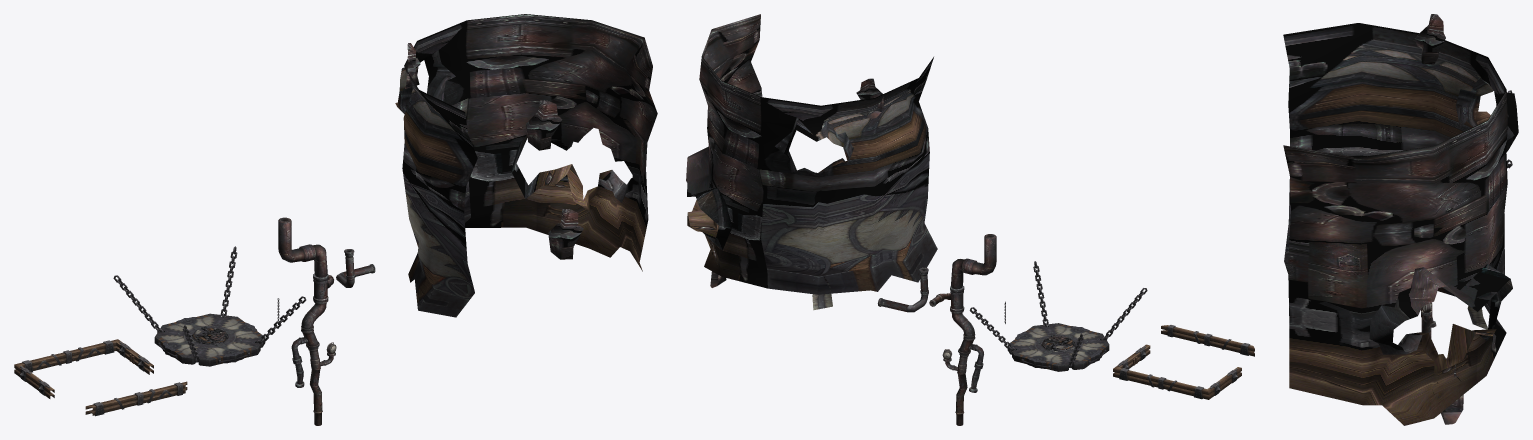
Rendered from f_1240_bulding.FBX.
The picture shows the model from 3 angles, left to right: view 1: azimuth 30°, elevation 25°; view 2: azimuth 150°, elevation 25°; view 3: azimuth 270°, elevation 25°; orthographic projection. The views are drawn at different scales.
Visible parts, largest first — view 1: Cylinder001, f_1136_floor_a01, f_1136_floor_a06, f_1136_floor_a04, f_1136_floor_a05, f_1136_floor_a008, f_1136_floor_a03, f_1136_floor_a007; view 2: Cylinder001, f_1136_floor_a01, f_1136_floor_a06, f_1136_floor_a04, f_1136_floor_a05, f_1136_floor_a008, f_1136_floor_a03, f_1136_floor_a007; view 3: Cylinder001, f_1136_floor_a03.
Part boxes in pixels (<box>): Cylinder001: <box>395,14,657,317</box>; f_1136_floor_a01: <box>113,246,306,366</box>; f_1136_floor_a06: <box>14,339,153,398</box>; f_1136_floor_a04: <box>291,273,333,387</box>; f_1136_floor_a05: <box>278,217,327,277</box>; f_1136_floor_a008: <box>85,381,187,416</box>; f_1136_floor_a03: <box>308,342,336,425</box>; f_1136_floor_a007: <box>336,249,375,287</box>; Cylinder001: <box>686,14,937,310</box>; f_1136_floor_a01: <box>969,261,1147,371</box>; f_1136_floor_a06: <box>1113,344,1241,399</box>; f_1136_floor_a04: <box>929,286,983,392</box>; f_1136_floor_a05: <box>951,234,996,289</box>; f_1136_floor_a008: <box>1161,325,1254,356</box>; f_1136_floor_a03: <box>942,349,968,425</box>; f_1136_floor_a007: <box>877,267,928,312</box>; Cylinder001: <box>1283,14,1518,425</box>; f_1136_floor_a03: <box>1421,302,1432,338</box>.
Bounding box in the file's own units: 18717 × 10658 × 5334.
